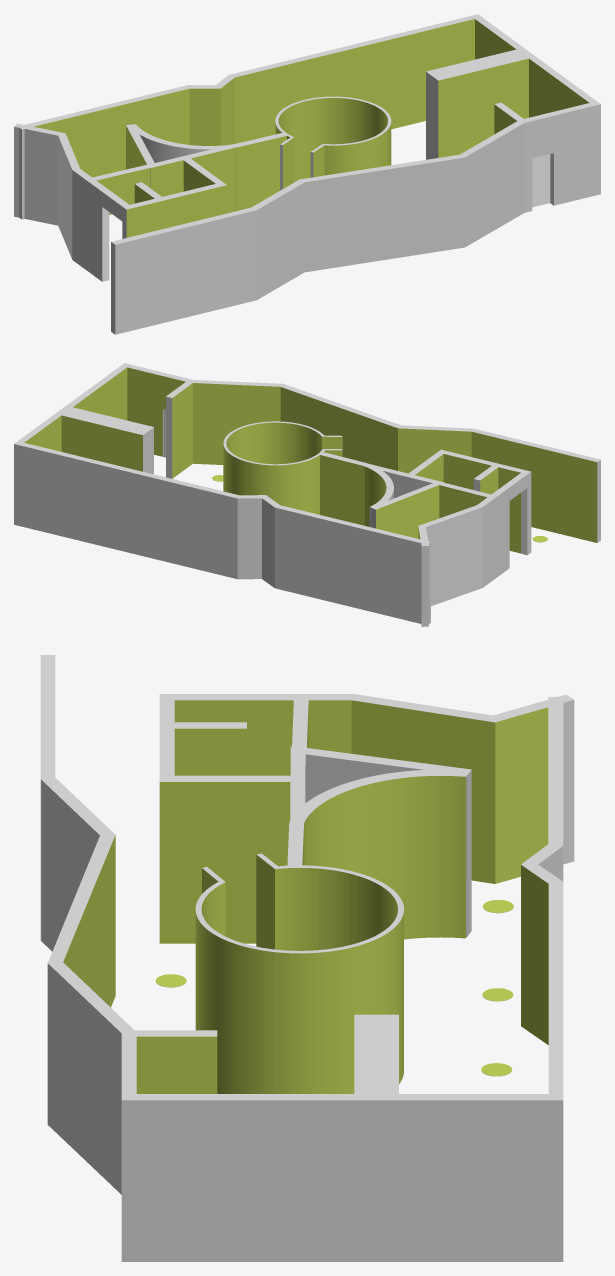
Rendered from VDNH_MINUS_GLB.glb.
The picture shows the model from 3 angles, top to bottom: view 1: azimuth 30°, elevation 25°; view 2: azimuth 150°, elevation 25°; view 3: azimuth 270°, elevation 25°; orthographic projection. The views are drawn at different scales.
Size of the model in its own units: 0.0355 by 0.006 by 0.018.
